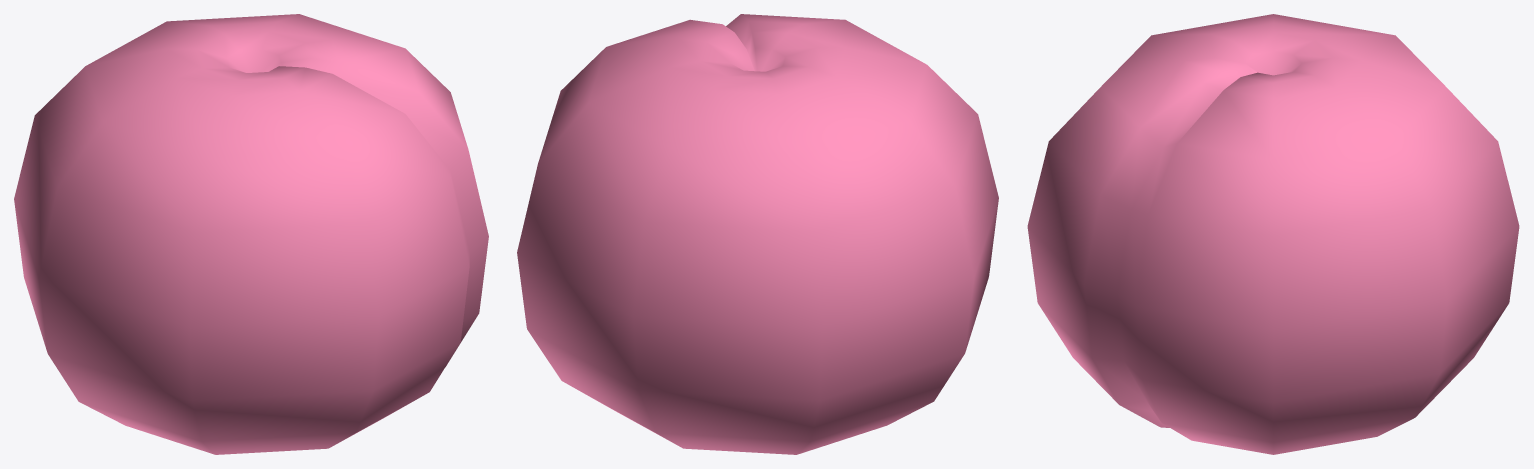
Rendered from plum.glb.
3 views of the same model, side by side, from view 1: azimuth 30°, elevation 25°; view 2: azimuth 150°, elevation 25°; view 3: azimuth 270°, elevation 25° (orthographic).
Visible parts, largest first — view 1: plum; view 2: plum; view 3: plum.
Part boxes in pixels (left/top/right/bottom): plum: left=14, top=14, right=488, bottom=454; plum: left=517, top=14, right=998, bottom=454; plum: left=1027, top=14, right=1519, bottom=454.
Bounding box in the file's own units: 0.1087 × 0.0865 × 0.1087.
